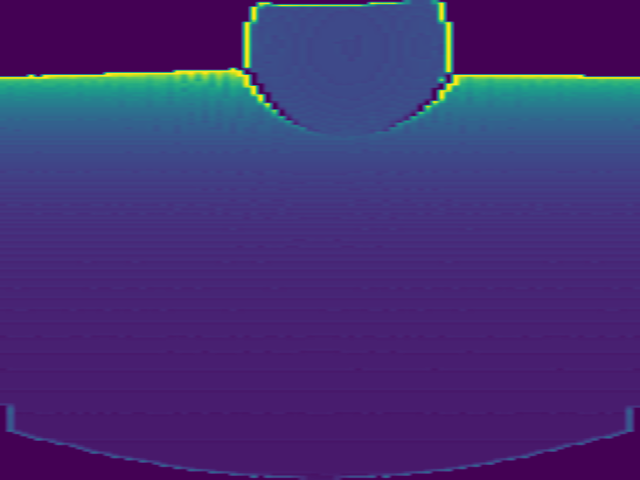sphere: (239, 1, 454, 141)
